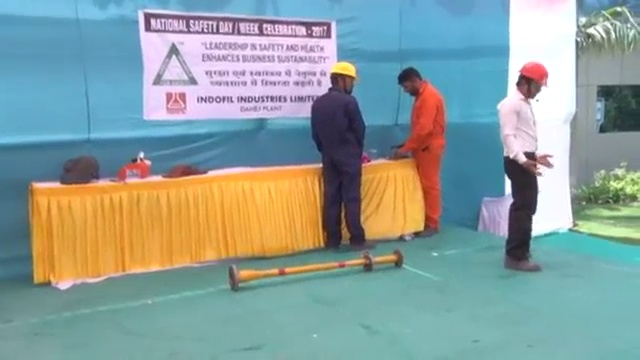helmet: (519, 59, 549, 87), (329, 60, 358, 79)
helmet_off: (398, 66, 428, 100)
helmet_on: (514, 58, 550, 100), (327, 60, 357, 96)
person: (496, 59, 555, 272), (311, 59, 376, 249), (394, 65, 446, 237)
